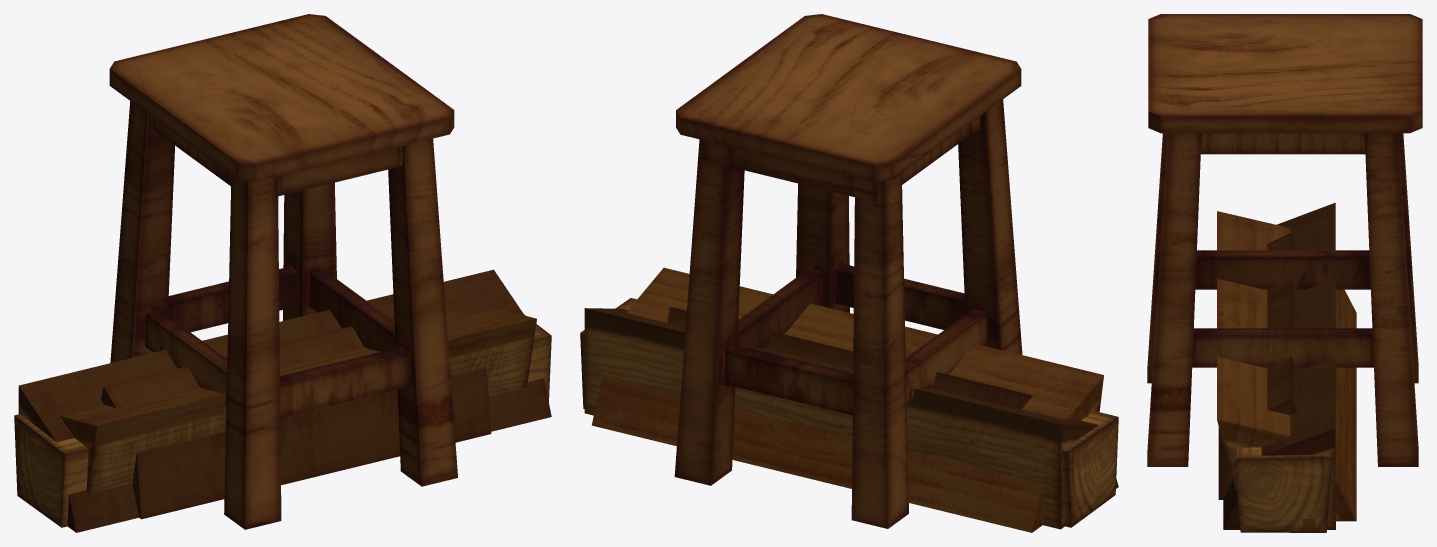
The model's file is SM_Cluster_Kitchen_04.fbx.
The picture shows the model from 3 angles, left to right: view 1: azimuth 30°, elevation 25°; view 2: azimuth 150°, elevation 25°; view 3: azimuth 270°, elevation 25°; orthographic projection. The views are drawn at different scales.
Visible parts, largest first — view 1: Stool_Low, Wood_Low4, Wood_Low1, Wood_Low3, Wood_Low2; view 2: Stool_Low, Wood_Low1, Wood_Low3, Wood_Low2, Wood_Low4; view 3: Stool_Low, Wood_Low1, Wood_Low3, Wood_Low2, Wood_Low4.
Boxes of the visible parts, bbox=[...] form: Stool_Low: bbox=[109, 14, 457, 529]; Wood_Low4: bbox=[101, 301, 491, 519]; Wood_Low1: bbox=[60, 309, 536, 493]; Wood_Low3: bbox=[18, 269, 551, 532]; Wood_Low2: bbox=[14, 314, 551, 527]; Stool_Low: bbox=[674, 14, 1022, 528]; Wood_Low1: bbox=[591, 267, 1103, 532]; Wood_Low3: bbox=[584, 308, 1118, 529]; Wood_Low2: bbox=[580, 298, 1118, 527]; Wood_Low4: bbox=[667, 307, 1032, 409]; Stool_Low: bbox=[1147, 14, 1422, 466]; Wood_Low1: bbox=[1217, 211, 1356, 521]; Wood_Low3: bbox=[1223, 202, 1335, 529]; Wood_Low2: bbox=[1234, 447, 1332, 532]; Wood_Low4: bbox=[1218, 232, 1297, 499].
Size of the model in its own units: 77.02 by 54.8 by 38.77.
